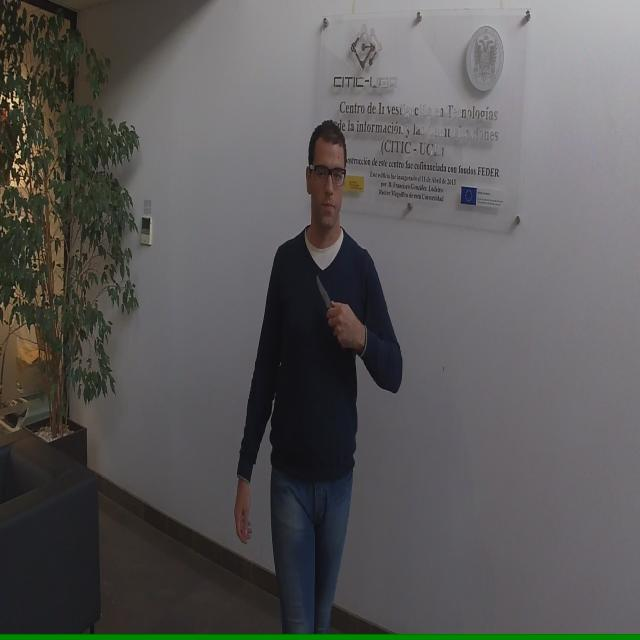knife: (314, 269, 341, 332)
